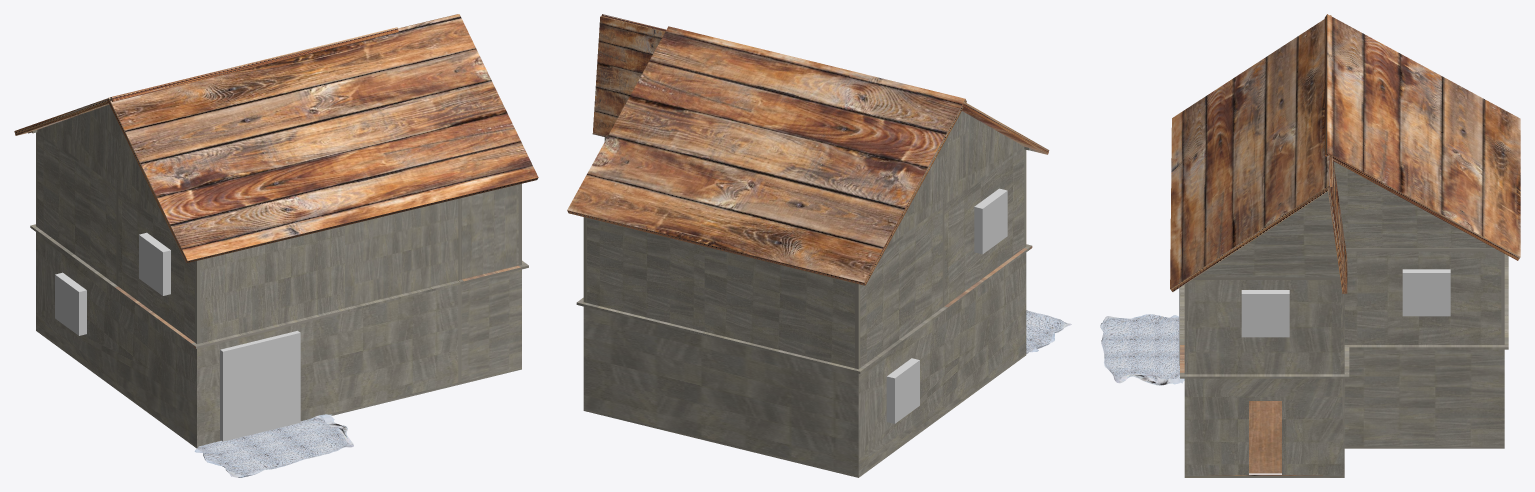
Rendered from casaNuova 2.fbx.
3 views of the same model, side by side, from view 1: azimuth 30°, elevation 25°; view 2: azimuth 150°, elevation 25°; view 3: azimuth 270°, elevation 25° (orthographic). The views are drawn at different scales.
Visible parts, largest first — view 1: Cube, Cube.004, Cube.001, Cube.002, Cube.003, finestra.002, finestra.003; view 2: Cube, Cube.003, Cube.005, finestra.002, finestra.003, Cube.002, Cube.004; view 3: Cube, Cube.003, Cube.004, Cube.002, finestra, finestra.001, Cube.005.
Part boxes in pixels (x1,y1,x2,y2): Cube: [28, 104, 528, 448]; Cube.004: [107, 14, 538, 263]; Cube.001: [220, 330, 300, 441]; Cube.002: [194, 414, 353, 477]; Cube.003: [14, 27, 398, 135]; finestra.002: [139, 232, 170, 295]; finestra.003: [55, 272, 86, 335]; Cube: [576, 111, 1035, 477]; Cube.003: [567, 26, 966, 285]; Cube.005: [592, 16, 665, 137]; finestra.002: [974, 188, 1007, 254]; finestra.003: [886, 358, 919, 423]; Cube.002: [1026, 310, 1071, 353]; Cube.004: [601, 14, 1049, 154]; Cube: [1180, 161, 1508, 477]; Cube.003: [1324, 14, 1520, 260]; Cube.004: [1170, 15, 1331, 291]; Cube.002: [1100, 314, 1184, 385]; finestra: [1241, 290, 1289, 337]; finestra.001: [1402, 269, 1450, 316]; Cube.005: [1327, 156, 1347, 293].
Size of the model in its own units: 1095 by 910 by 1144.
